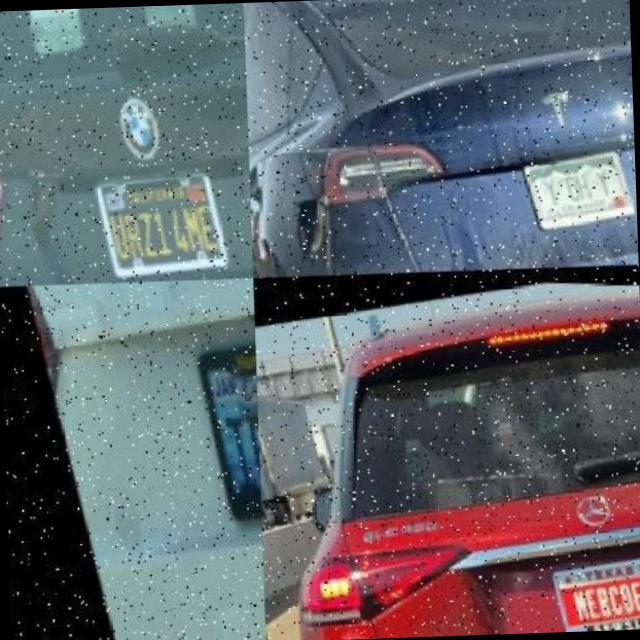LicensePlate: (88, 143, 225, 283), (188, 317, 262, 525), (518, 142, 631, 227), (547, 550, 640, 632)
